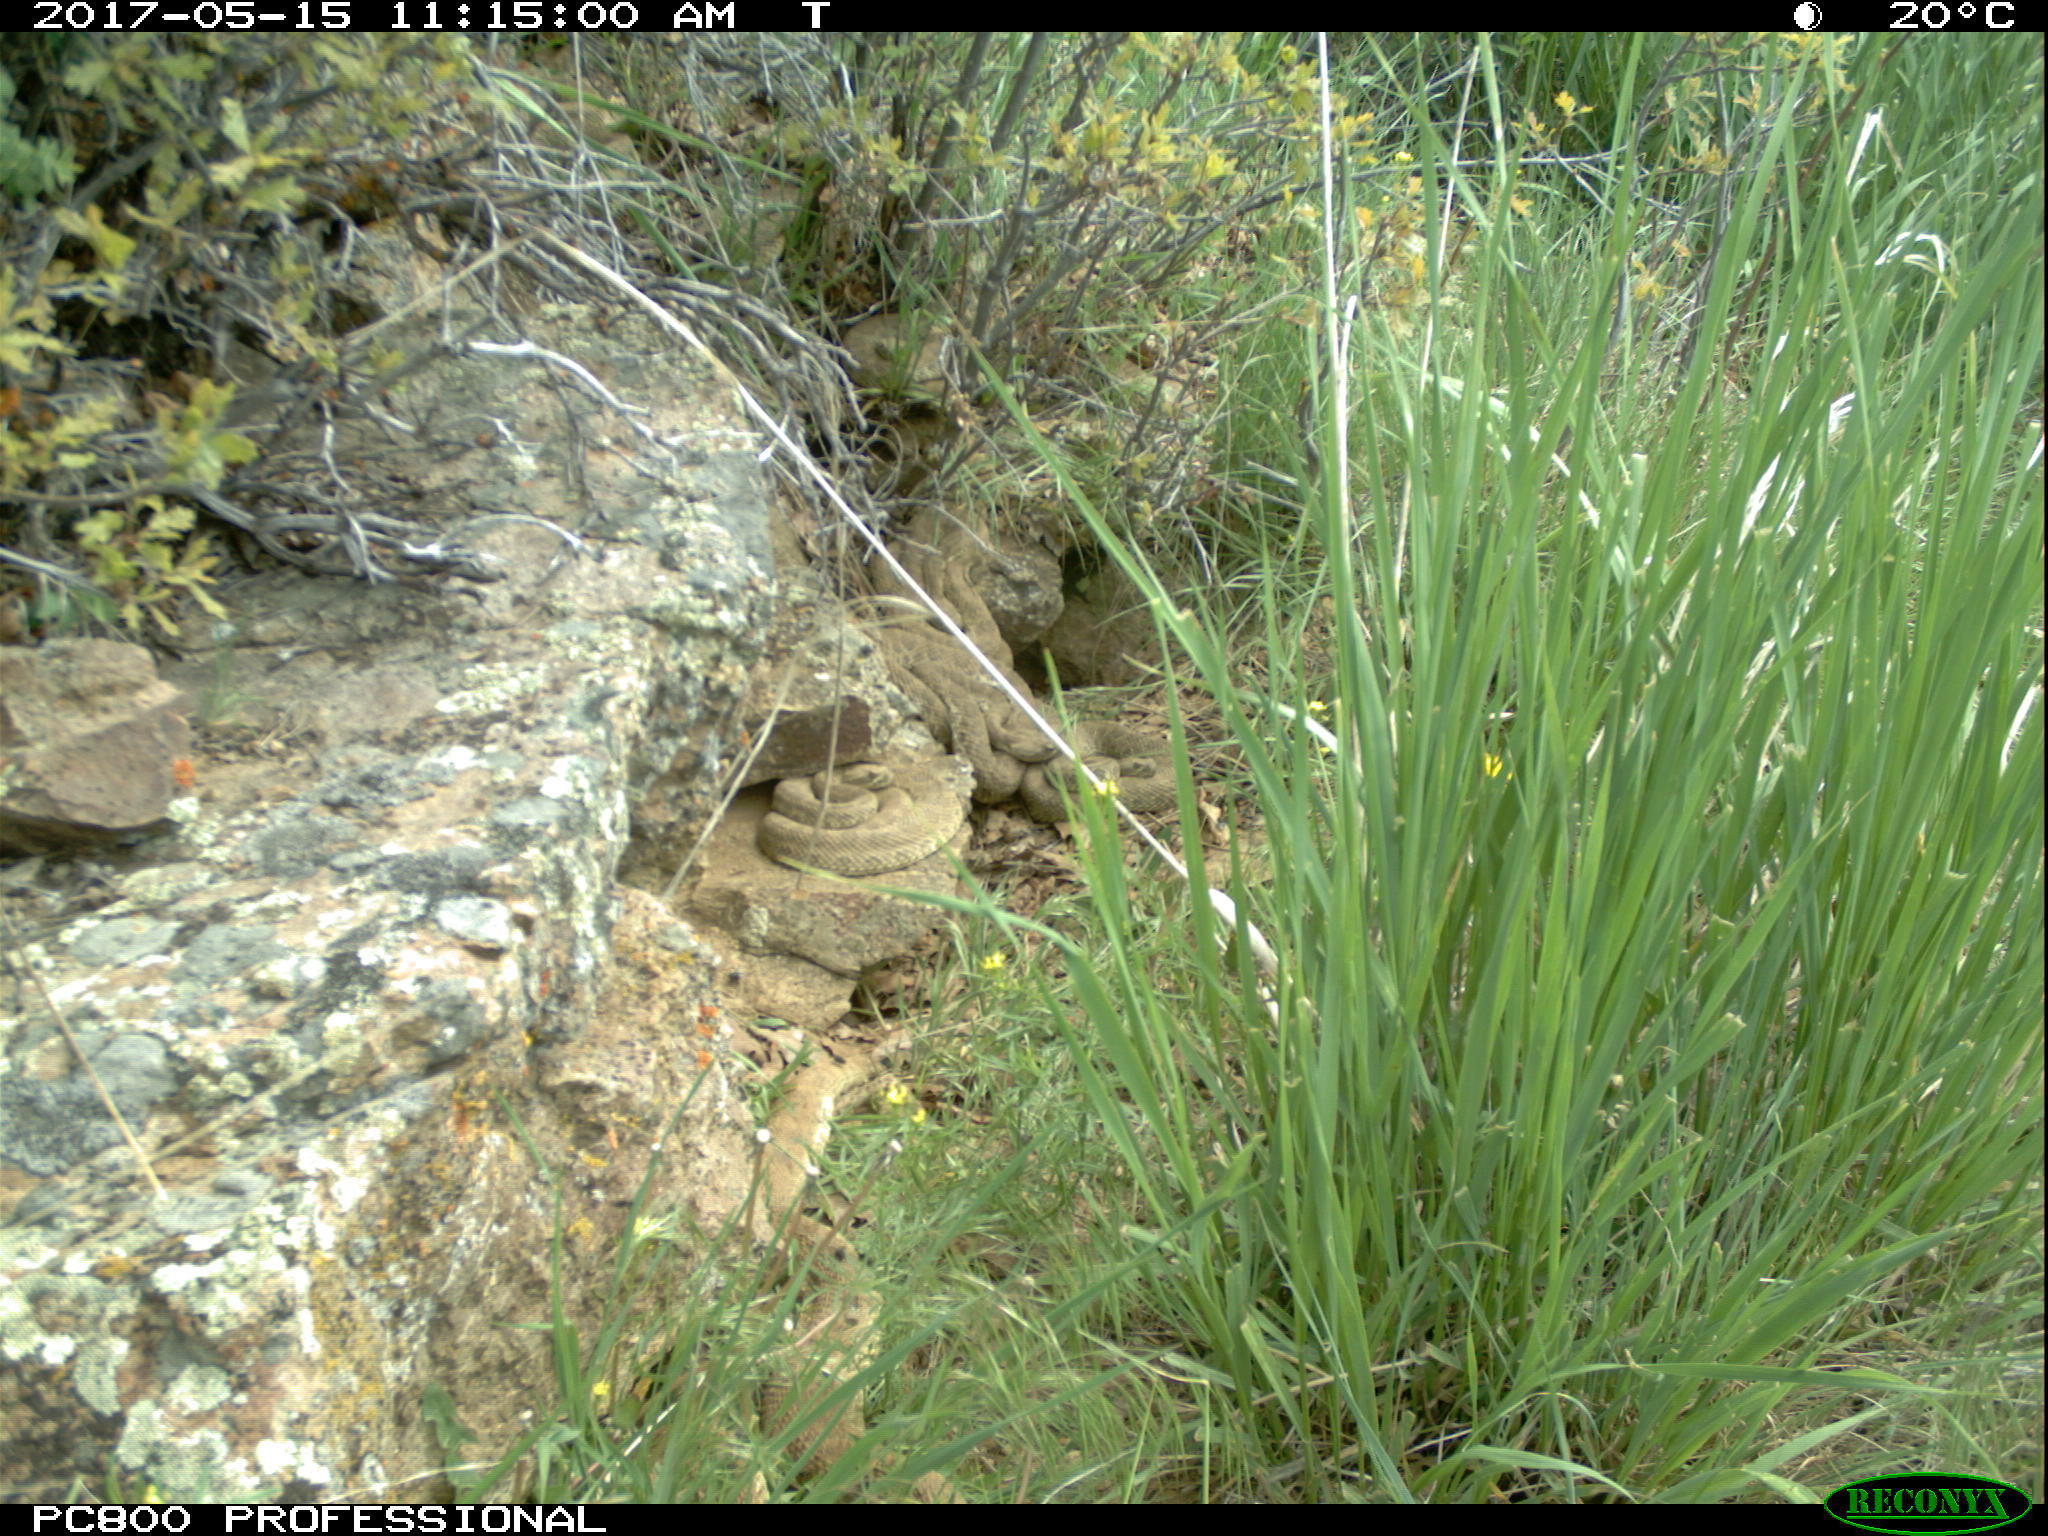snake: (753, 1052, 864, 1486), (877, 636, 1063, 812), (756, 757, 972, 878), (874, 499, 1009, 679), (1027, 705, 1201, 818), (832, 307, 955, 402)
